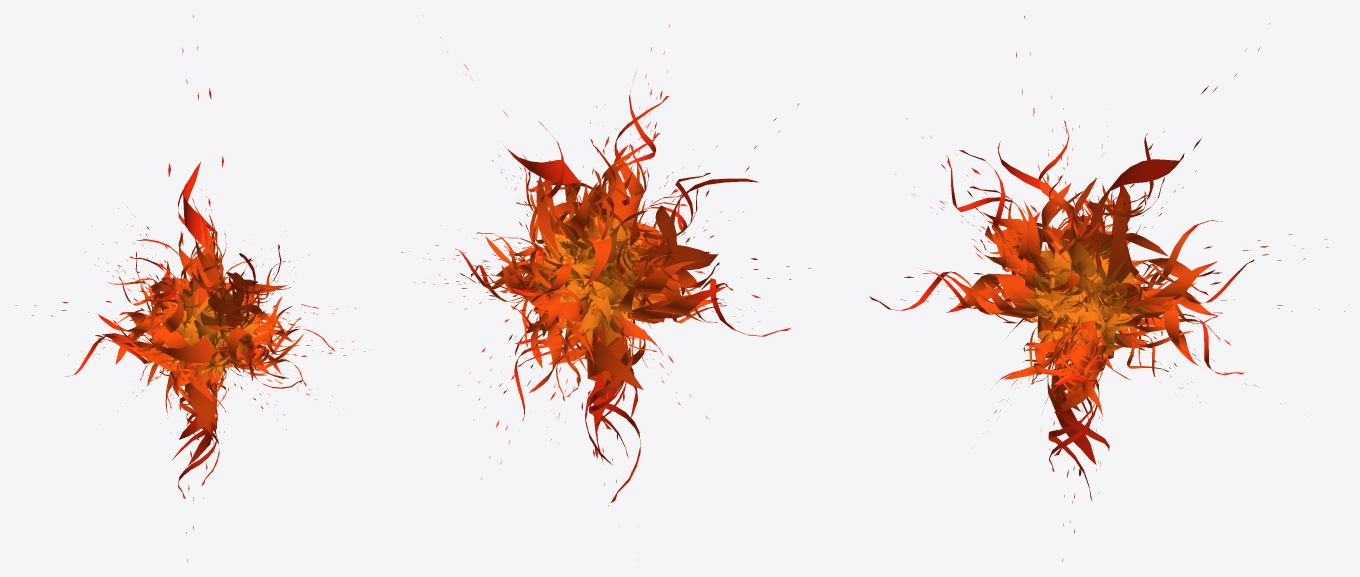
The model's file is fireball_00.obj.
3 views of the same model, side by side, from view 1: azimuth 30°, elevation 25°; view 2: azimuth 150°, elevation 25°; view 3: azimuth 270°, elevation 25° (orthographic). The views are drawn at different scales.
Visible parts, largest first — view 1: Fireball; view 2: Fireball; view 3: Fireball.
Boxes of the visible parts, left/top/right/bottom form: Fireball: left=15, top=15, right=365, bottom=562; Fireball: left=401, top=15, right=810, bottom=506; Fireball: left=869, top=16, right=1344, bottom=561.
Bounding box in the file's own units: 1.71 × 2.29 × 1.76.
